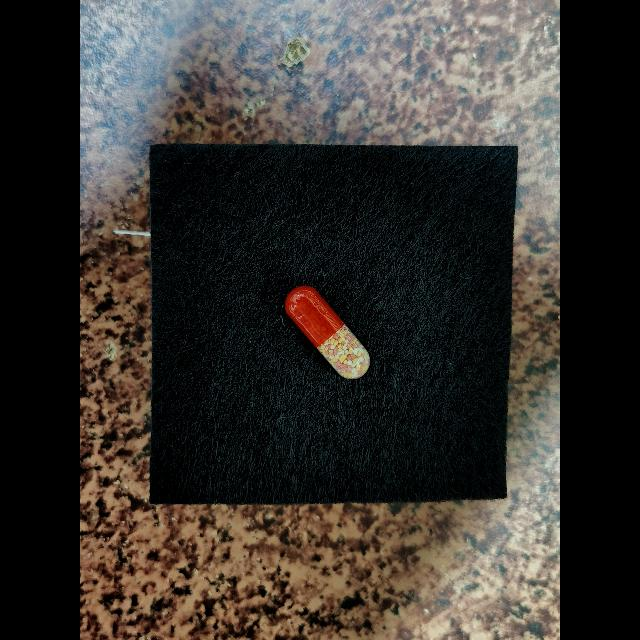Intact Capsule: (285, 286, 370, 380)
